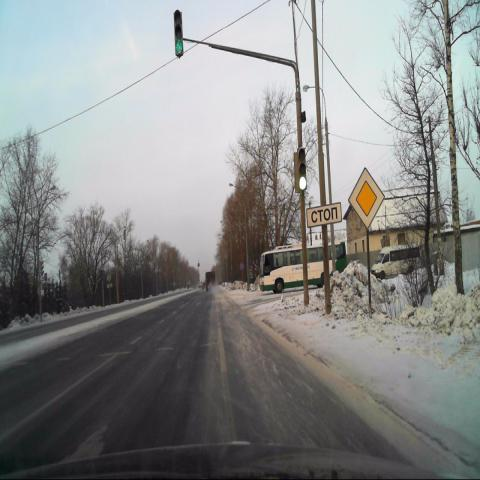6_16: (306, 202, 342, 227)
